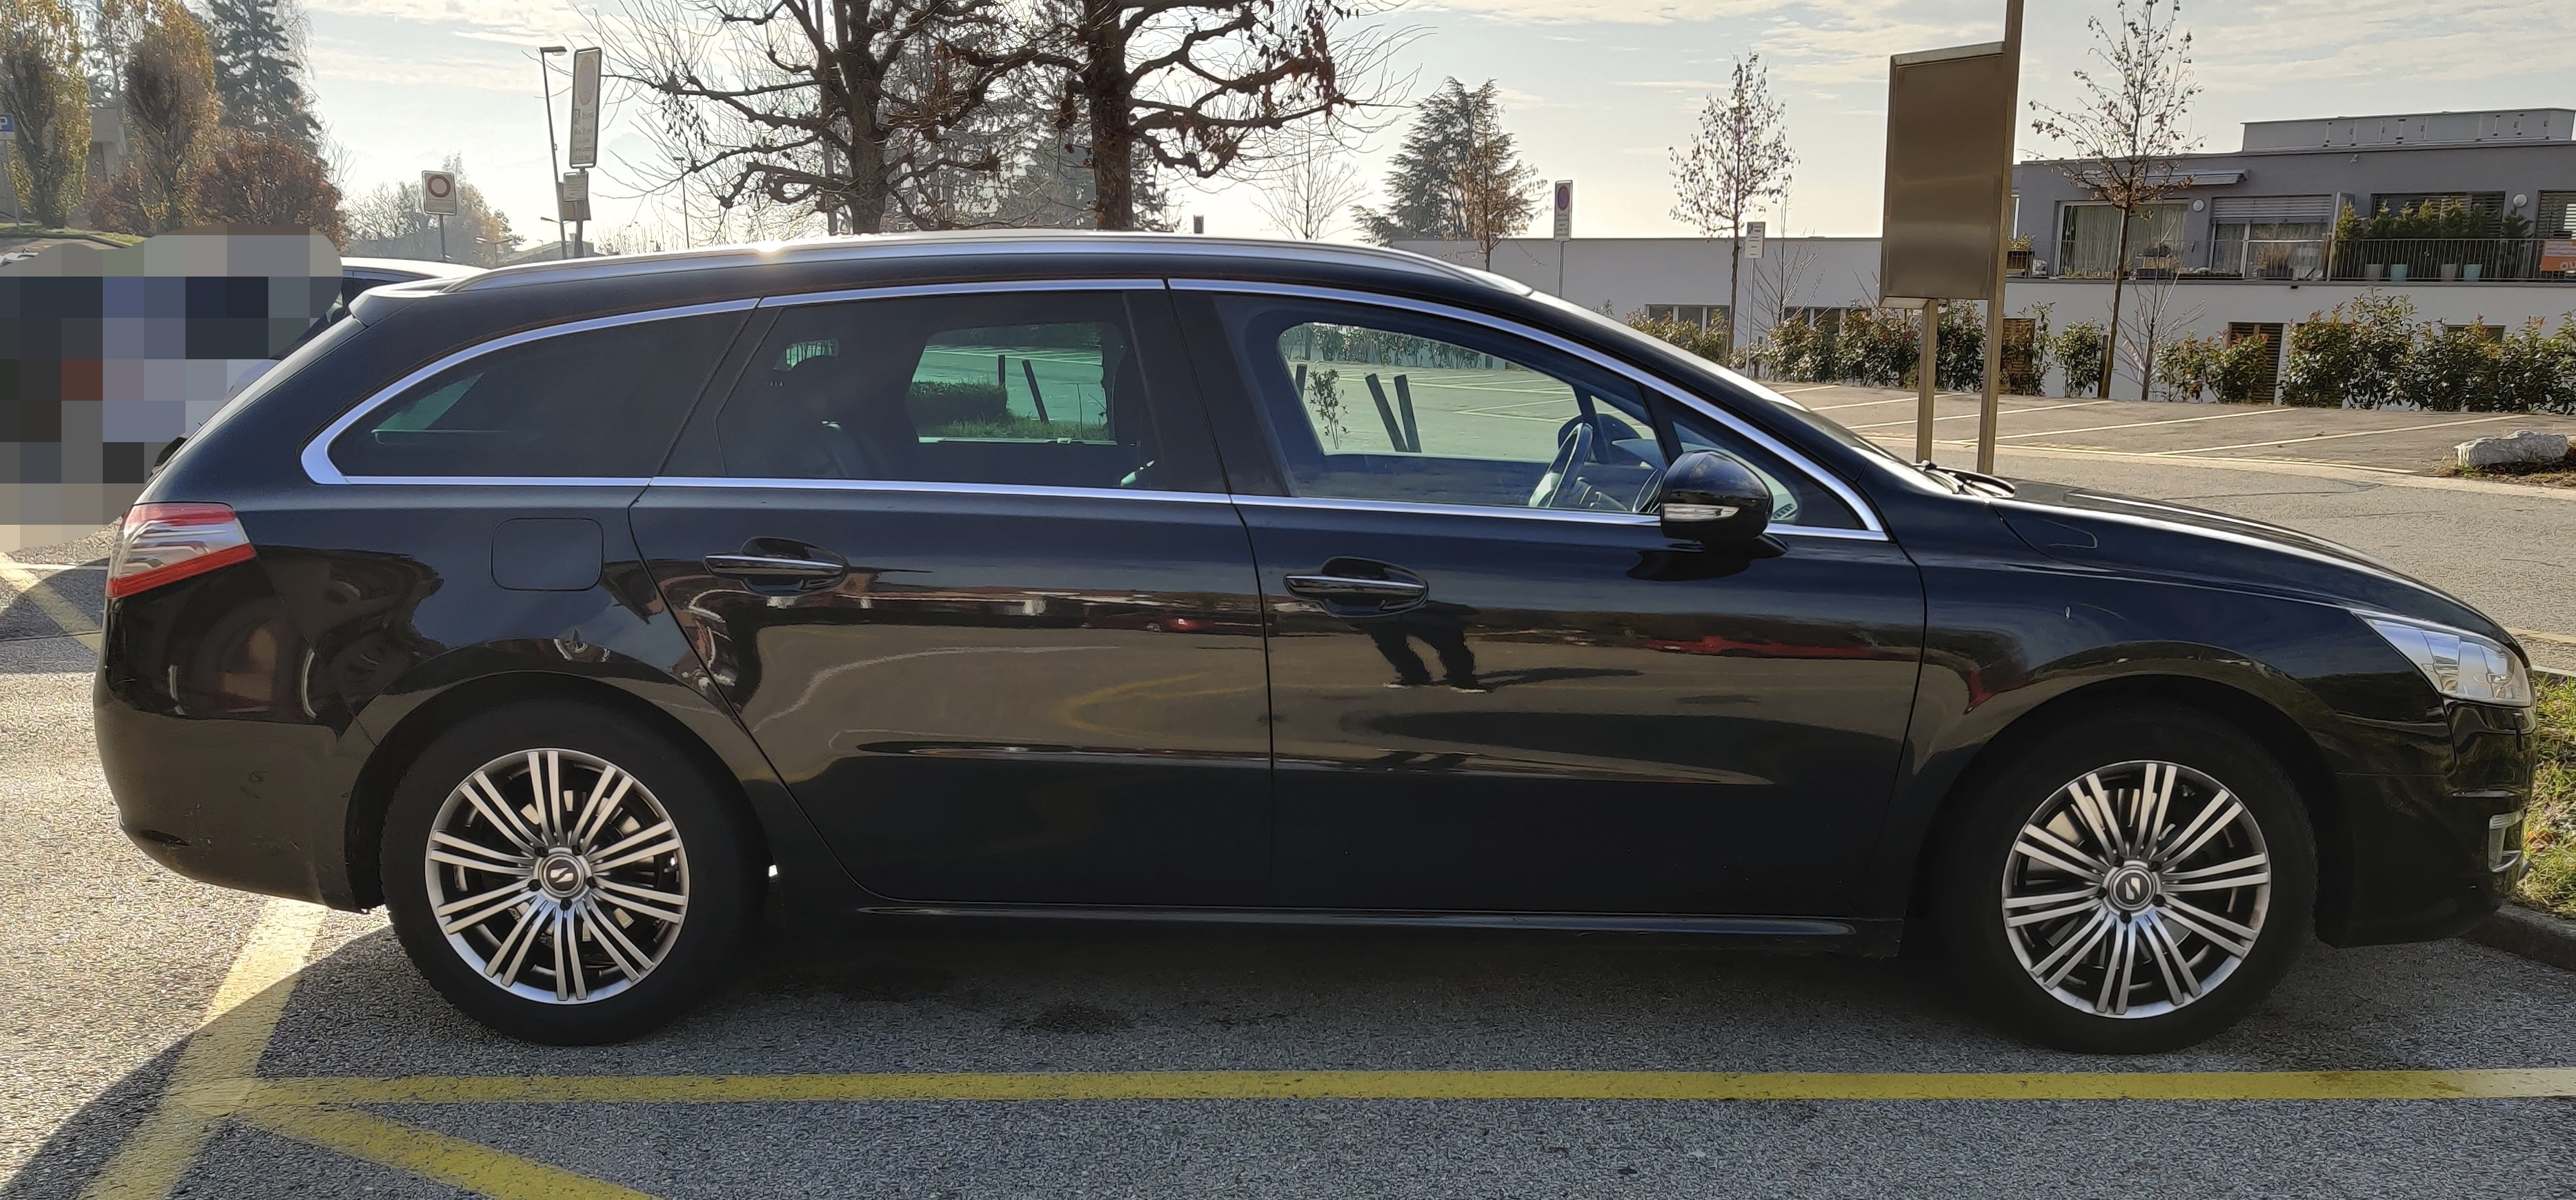mobil: (76, 215, 2543, 1056)
